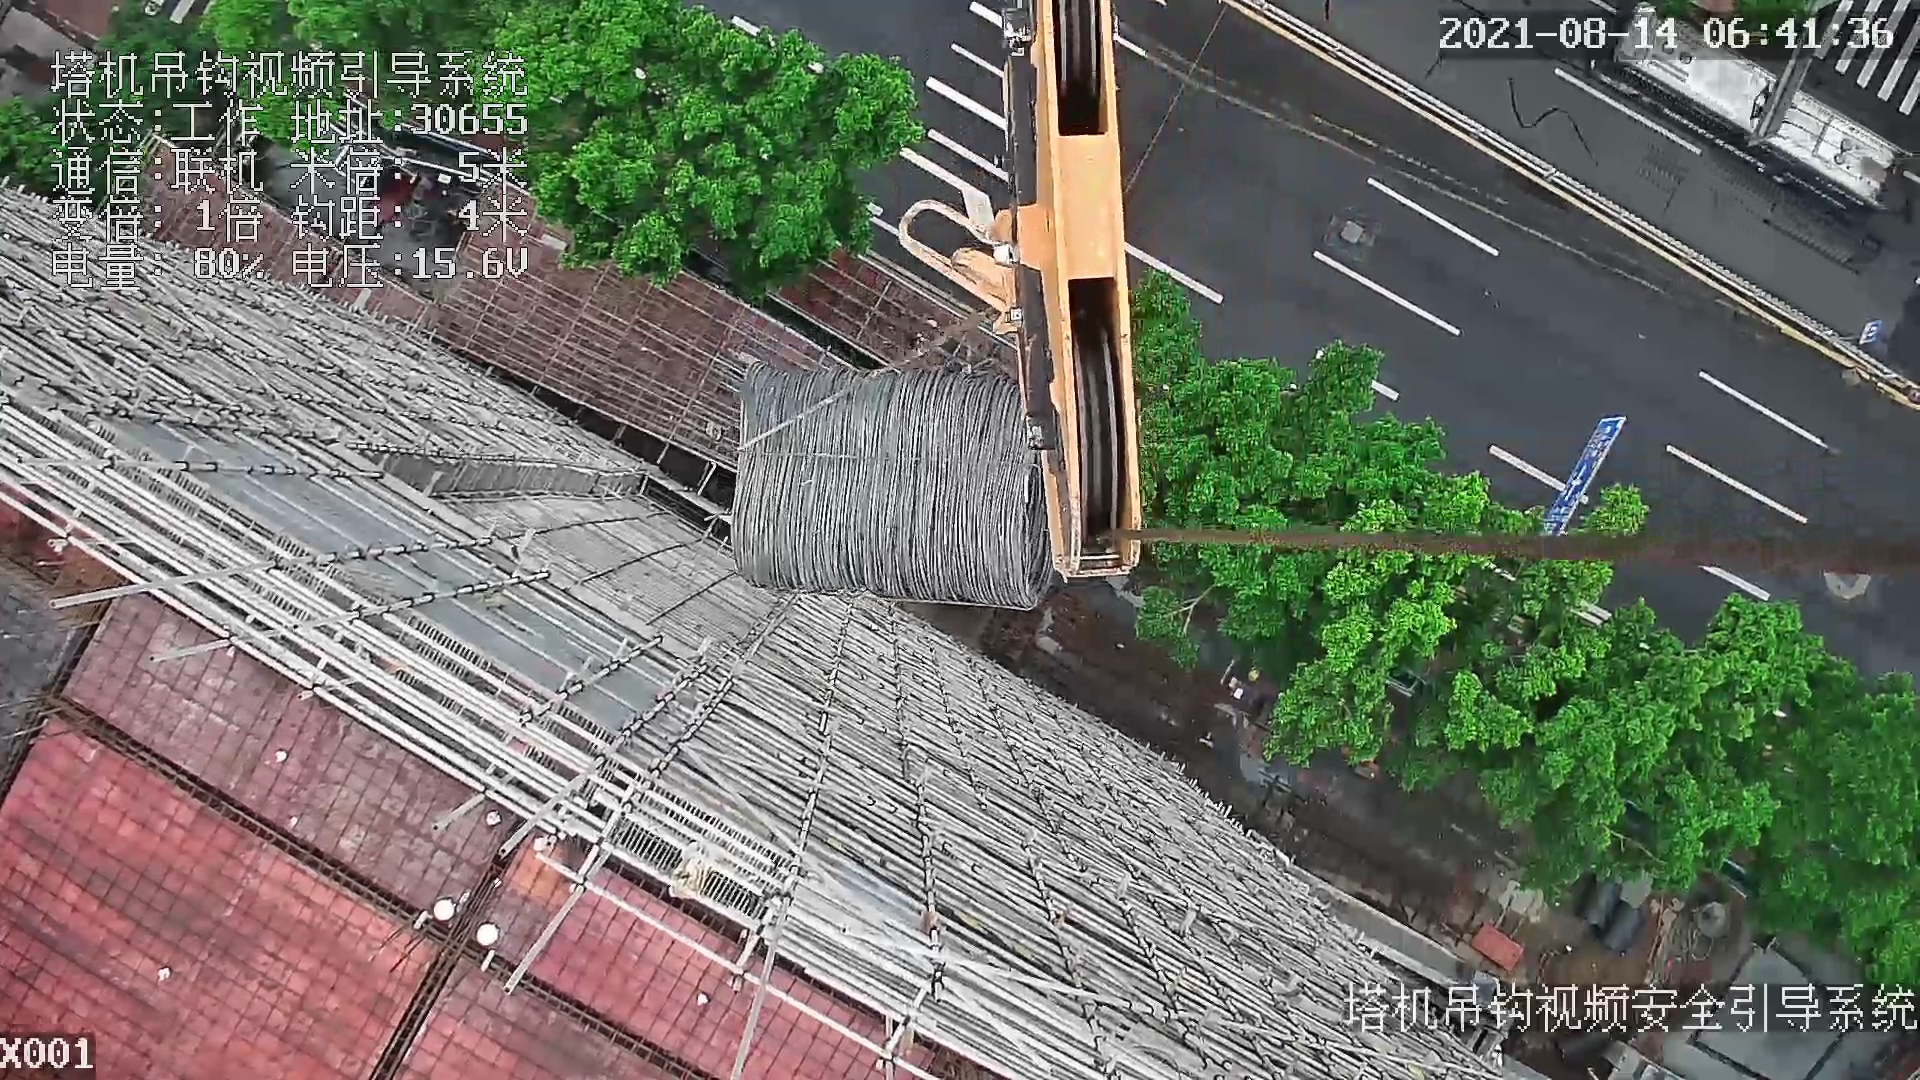hook: (890, 1, 1155, 582)
